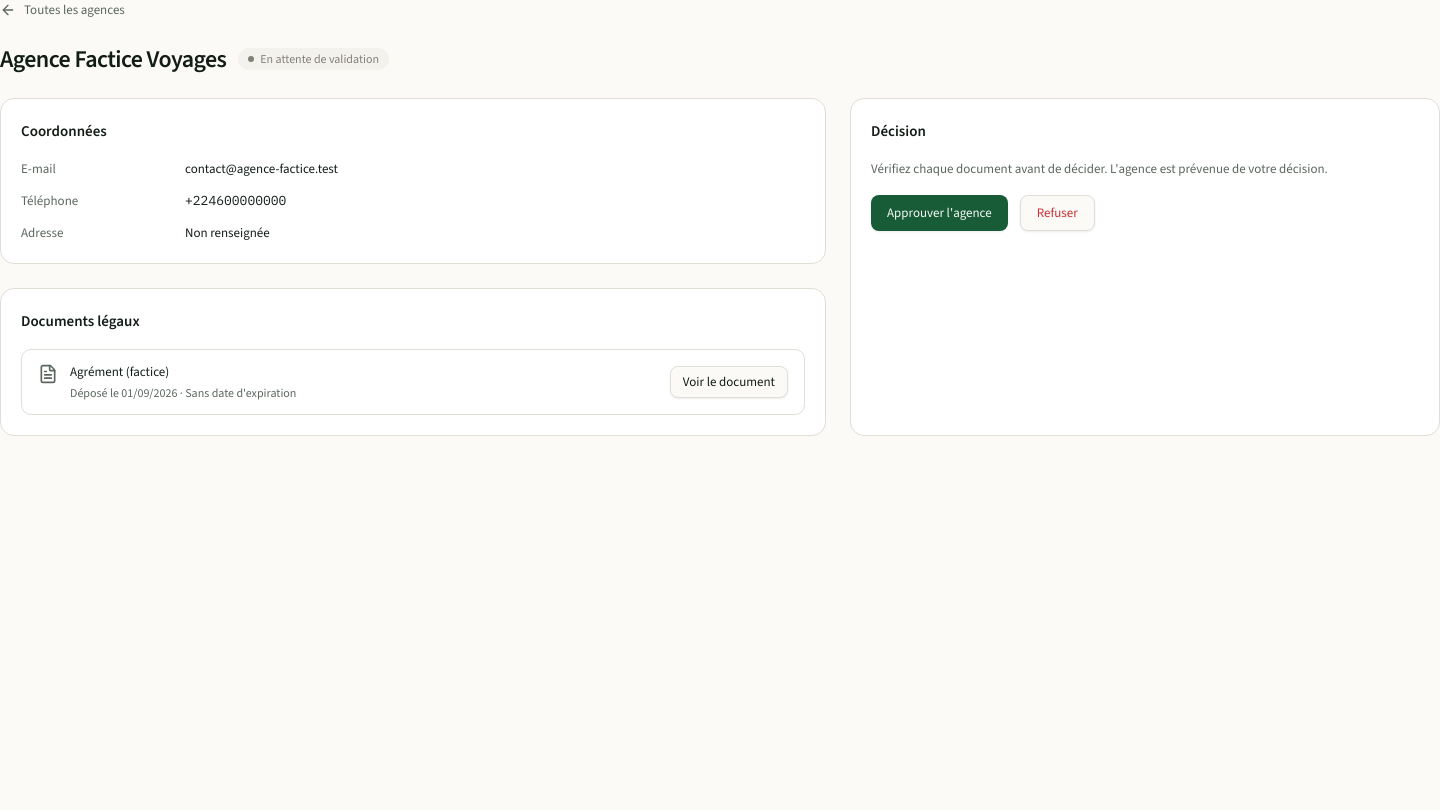
it: AgencyValidationScreen (ticket #31) › transmet le motif puis affiche la décision
Step 1. Click the button "Refuser" → (1057, 213), box [1020,195,1095,231]
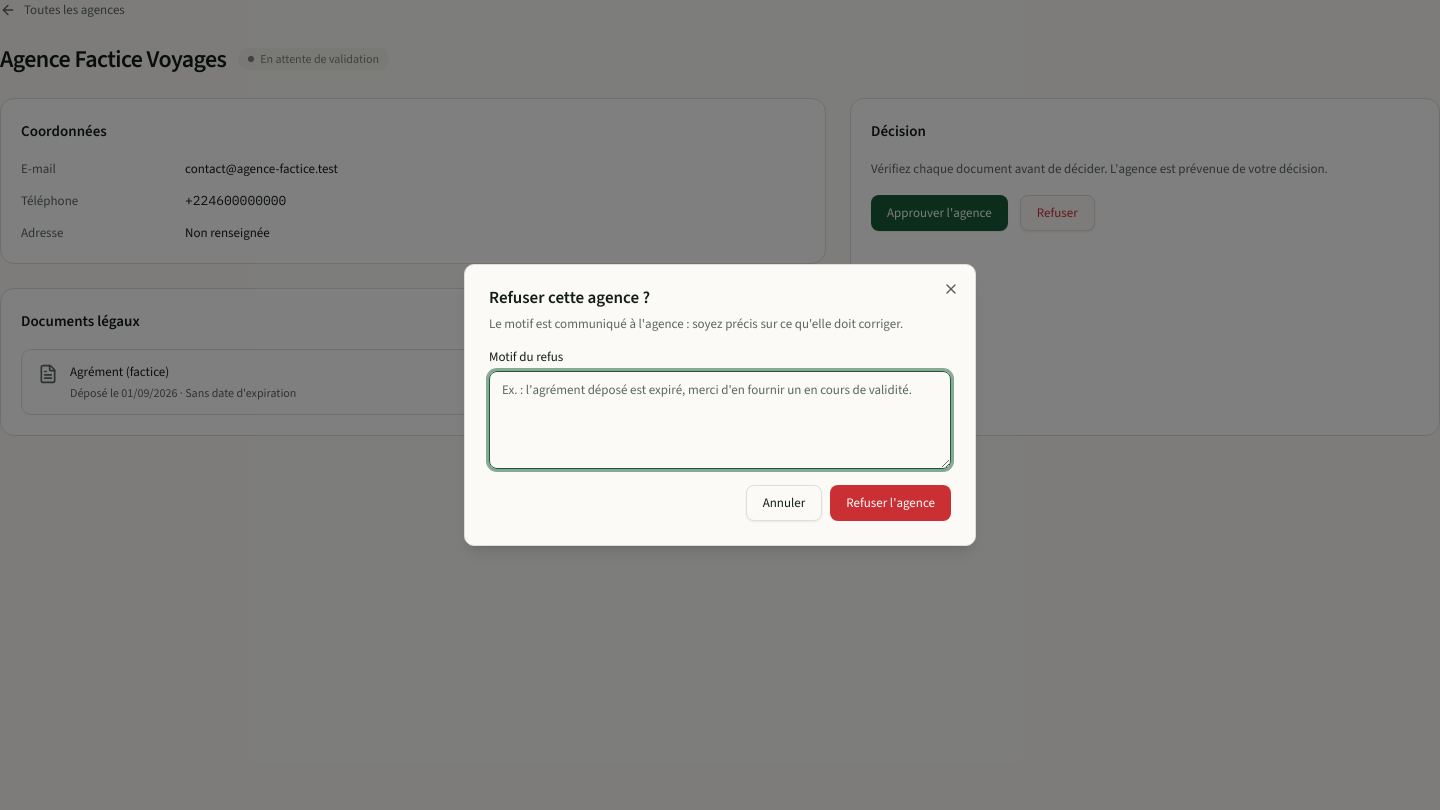
Step 2. Type "Agrément expiré, à renouveler" into the text box labelled "Motif du refus" → (720, 420), box [489,371,951,469]
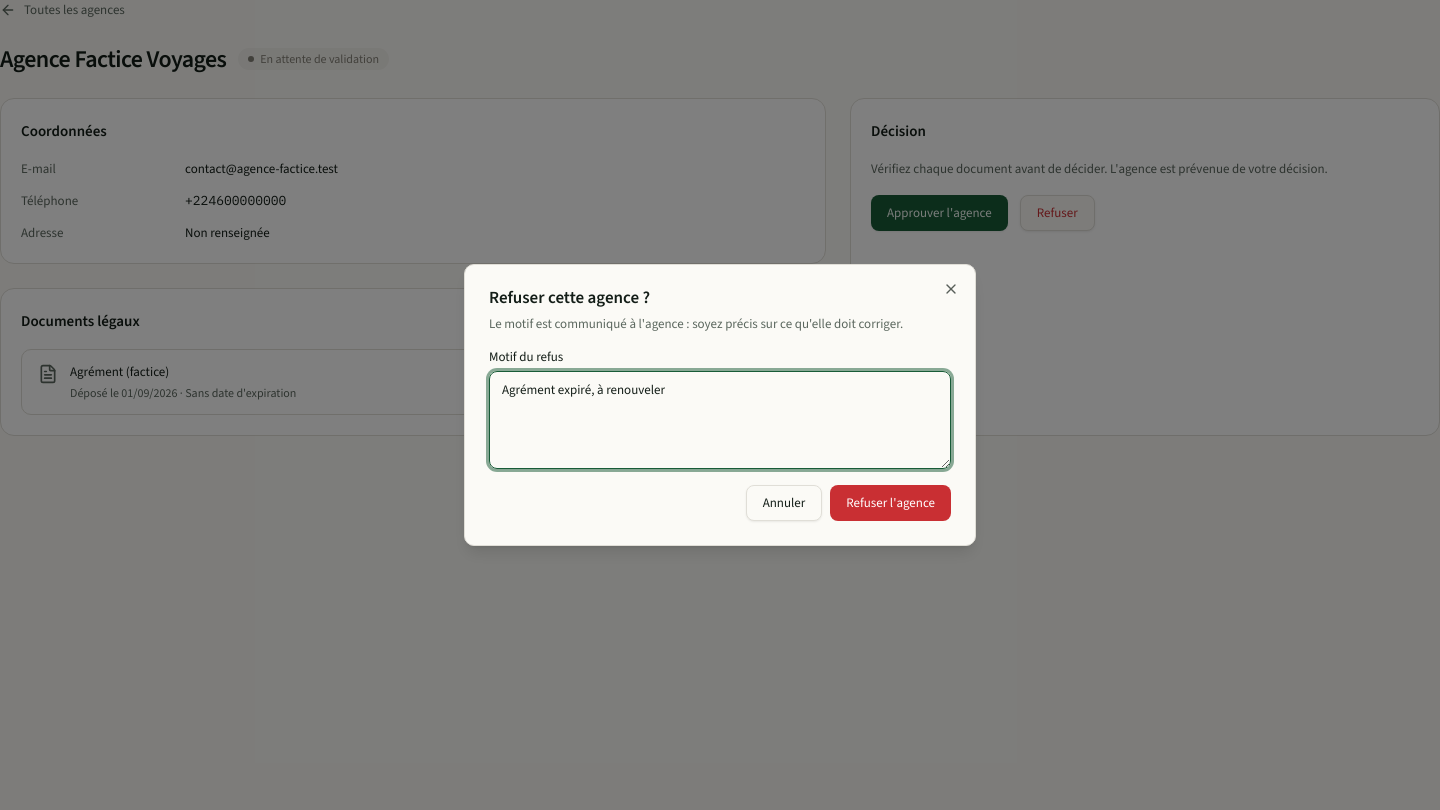
Step 3. Click the button "Refuser l'agence" → (891, 503), box [830,485,951,521]
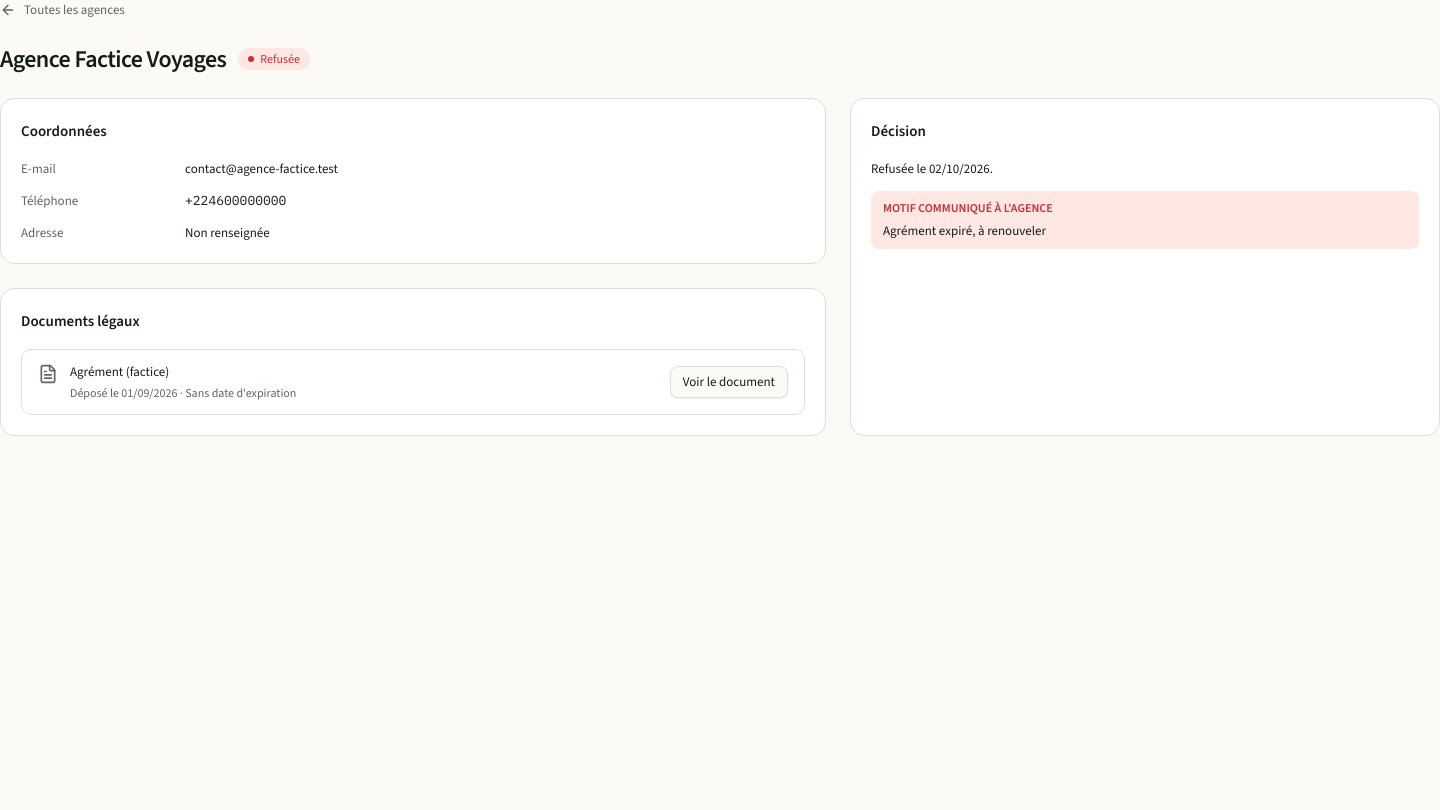
Now the dialog is gone
Now the text "Motif communiqué à l'agence" is shown, box [883,200,1053,216]
Now the button "Refuser" is gone
